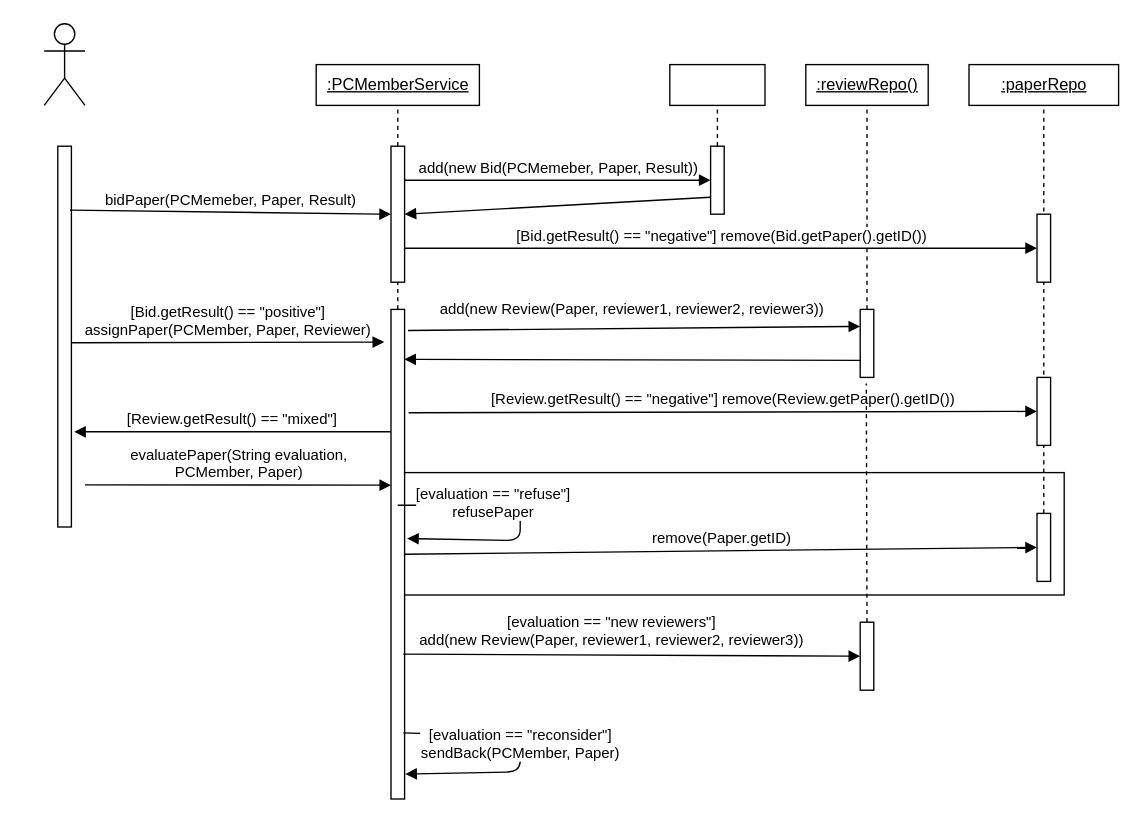
Image size: 1142x823. Some labels were removed from this diagram. Here are the shapes that lost their labels. From the top down, the centre of each, then its label:
At [64,63]: "PCMember".
At [716,84]: ":bidRepo".
